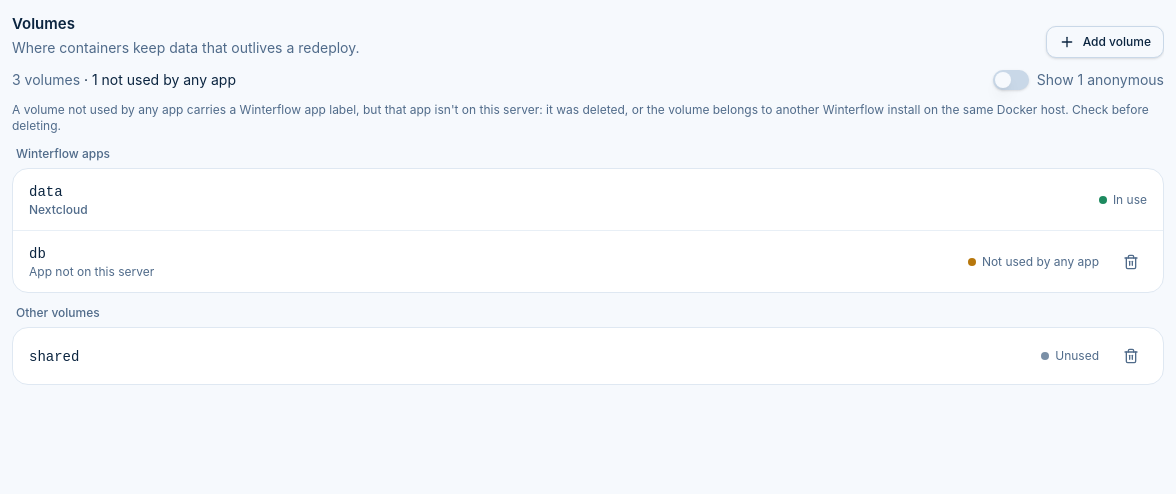
Test: VolumesSection › shows anonymous volumes only when switched on
Click the switch named "Show 1 anonymous": (1011, 80) [993, 70, 1029, 90]
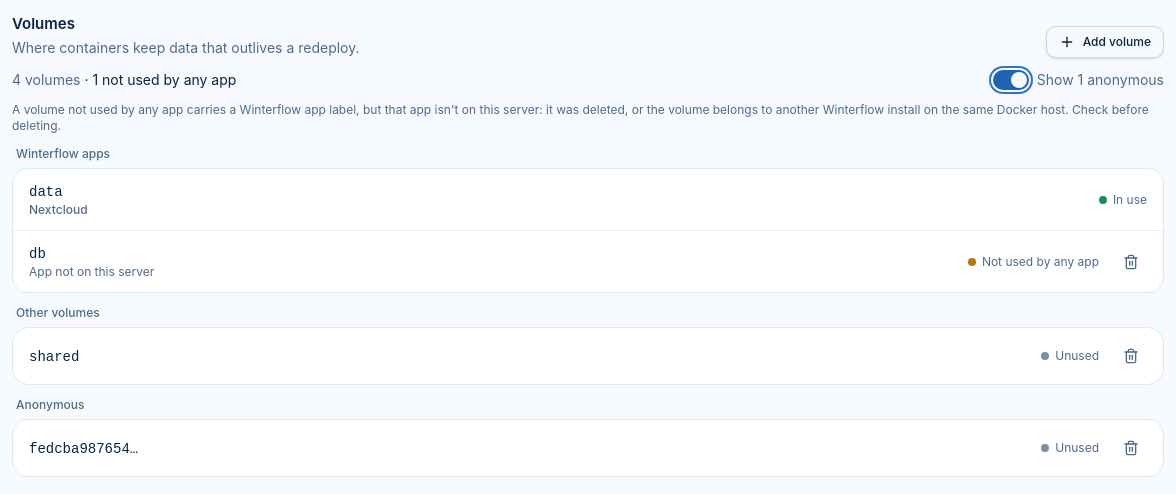
Check: the heading "Anonymous" is shown, box [16, 397, 84, 412]
Check: the text "4 volumes · 1 not used by any app" is shown, box [12, 70, 236, 90]
